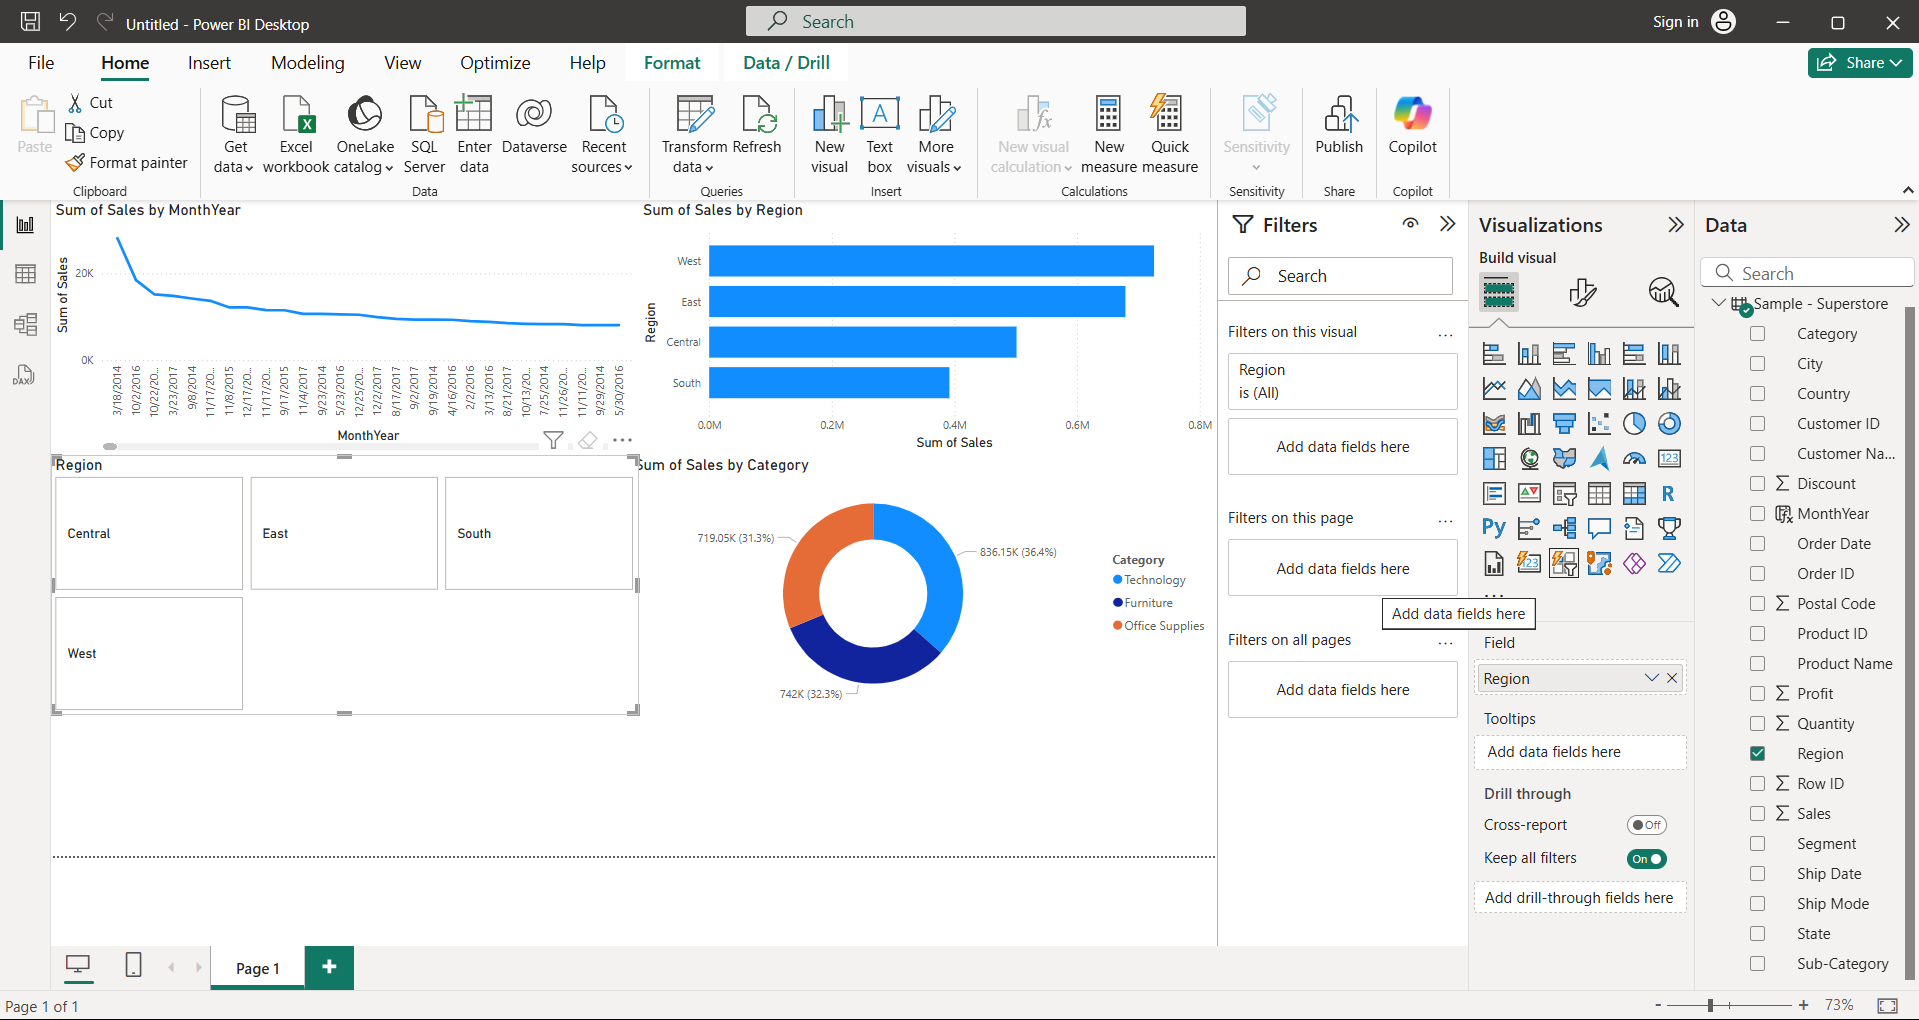

The page's visual inventory and layout, read from the dashboard file:
{"tool":"powerbi","page":{"name":"Page 1","canvas":[1280,720],"ordinal":0},"visuals":[{"type":"lineChart","fields":{"Category":["Sample - Superstore.MonthYear"],"Y":["Sum(Sample - Superstore.Sales)"]},"box":[0,0,644.9,279.9],"z":1000},{"type":"barChart","fields":{"Y":["Sum(Sample - Superstore.Sales)"],"Category":["Sample - Superstore.Region"]},"box":[644.9,0,635.3,279.9],"z":1001},{"type":"donutChart","fields":{"Y":["Sum(Sample - Superstore.Sales)"],"Category":["Sample - Superstore.Category"]},"box":[635.3,279.9,644.9,285.4],"z":1002},{"type":"advancedSlicerVisual","fields":{"Values":["Sample - Superstore.Region"]},"box":[0,279.9,644.9,285.4],"z":1003}]}

Visuals, with their boxes on the page's 1280x720 design canvas (x1, y1, x2, y2). These are canvas units, not pixel positions in the 1919x1020 screenshot, which may show the page scaled, cropped or inside an application window:
lineChart - Sample - Superstore.MonthYear x Sum(Sample - Superstore.Sales): left=0, top=0, right=645, bottom=280
barChart - Sum(Sample - Superstore.Sales) x Sample - Superstore.Region: left=645, top=0, right=1280, bottom=280
donutChart - Sum(Sample - Superstore.Sales) x Sample - Superstore.Category: left=635, top=280, right=1280, bottom=565
advancedSlicerVisual - Sample - Superstore.Region: left=0, top=280, right=645, bottom=565
